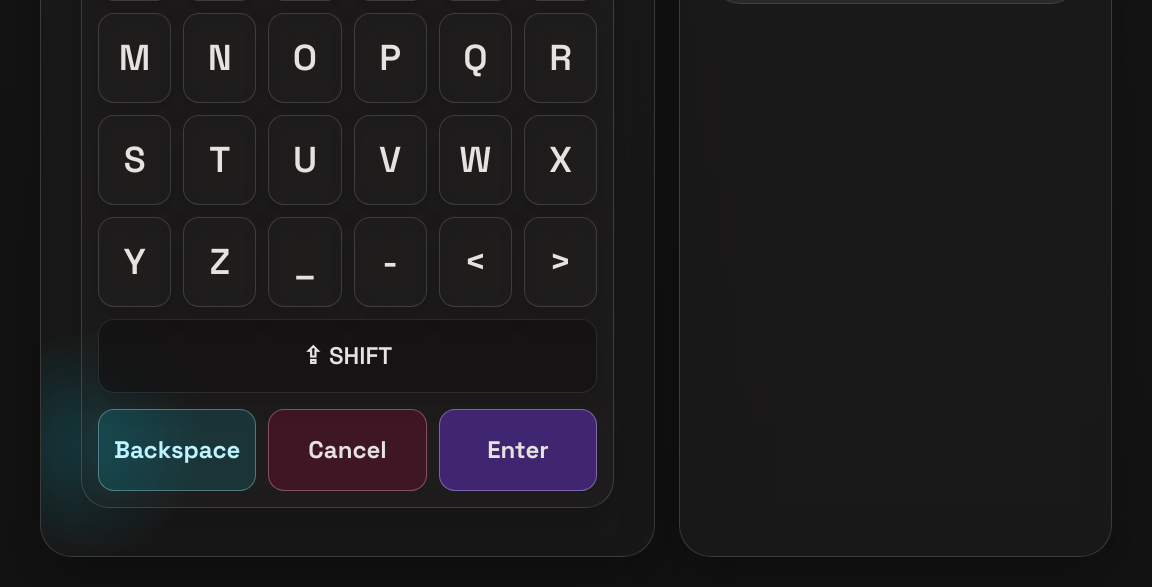
Test: SignupPage › shows the discard error and stays on the page when guest cleanup fails
(page scrolled)
Click the button "Cancel". click: (348, 450)
box: [268,409,427,491]
(page scrolled)
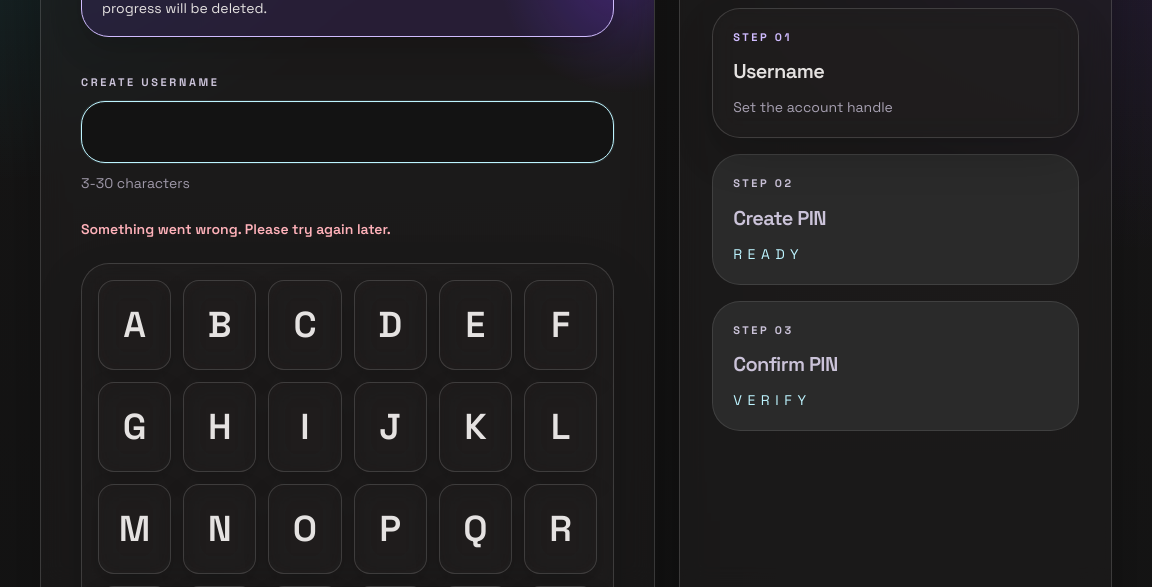
Check: the text "Something went wrong. Please try again later." is shown, box [81,220,391,238]
